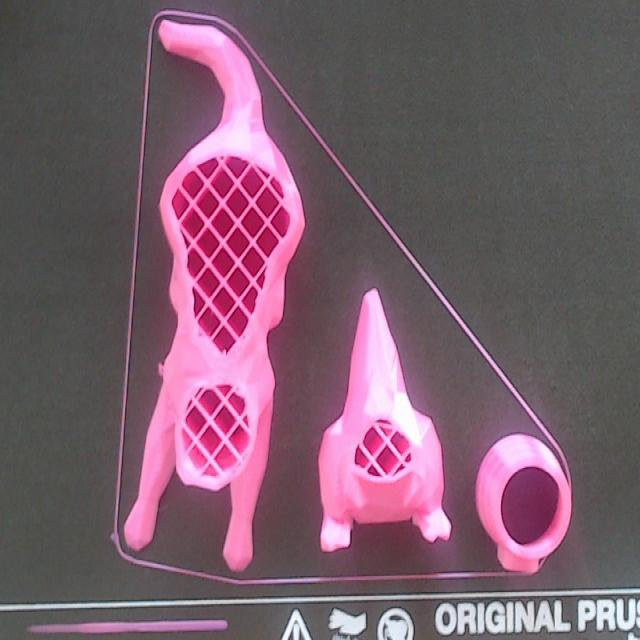mistake: (158, 363, 163, 376)
